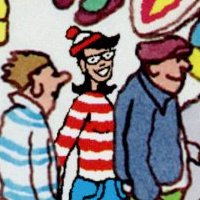wenda: (71, 23, 120, 97)
